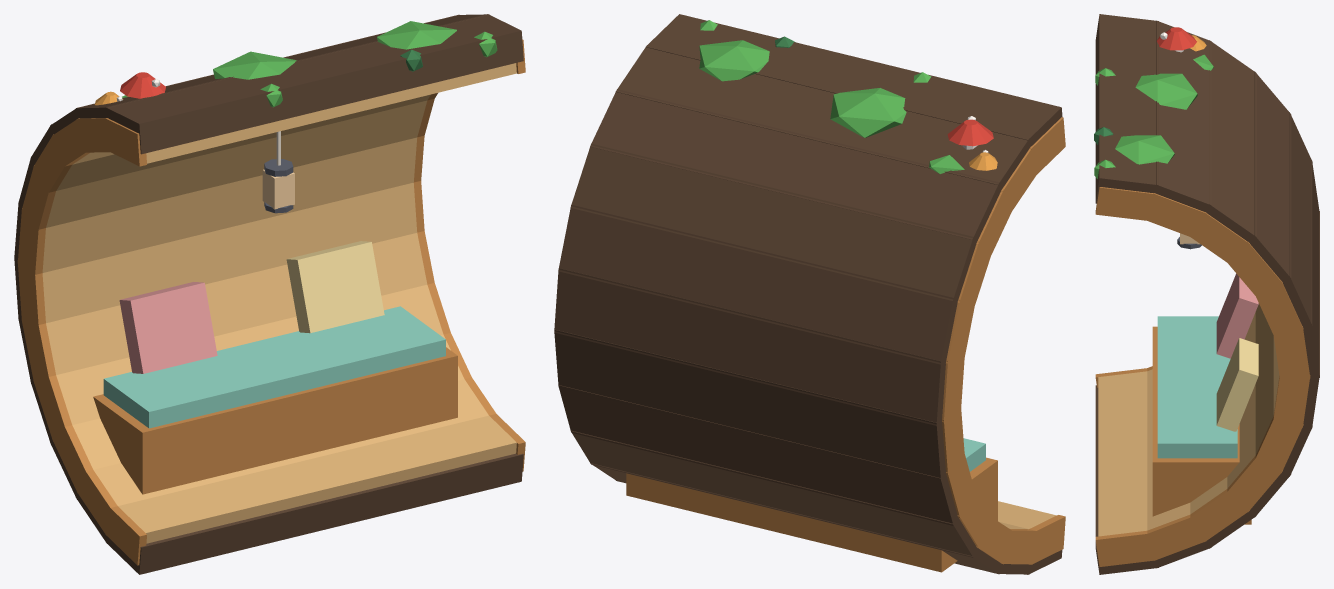
Rendered from CatCafe_Decor_HollowLogBooth.glb.
3 views of the same model, side by side, from view 1: azimuth 30°, elevation 25°; view 2: azimuth 150°, elevation 25°; view 3: azimuth 270°, elevation 25° (orthographic). The views are drawn at different scales.
Parts seen in each view (by area): view 1: CatCafe_Decor_HollowLogBooth, CatCafe_Decor_HollowLogBooth_Glow; view 2: CatCafe_Decor_HollowLogBooth; view 3: CatCafe_Decor_HollowLogBooth.
Part boxes in pixels (x1=…): CatCafe_Decor_HollowLogBooth: x1=14, y1=14, x2=525, y2=574; CatCafe_Decor_HollowLogBooth_Glow: x1=262, y1=169, x2=294, y2=209; CatCafe_Decor_HollowLogBooth: x1=554, y1=14, x2=1065, y2=574; CatCafe_Decor_HollowLogBooth: x1=1094, y1=14, x2=1319, y2=574.
Size of the model in its own units: 4.16 by 4.7 by 2.39.
Materials: 1 (1 with a texture image).
